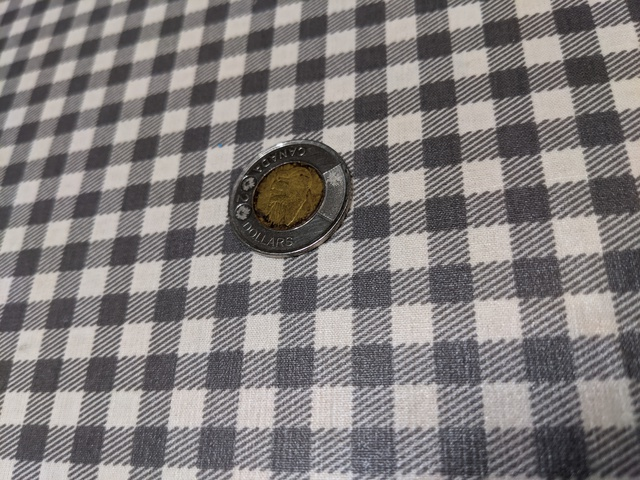twonie: (226, 139, 354, 260)
